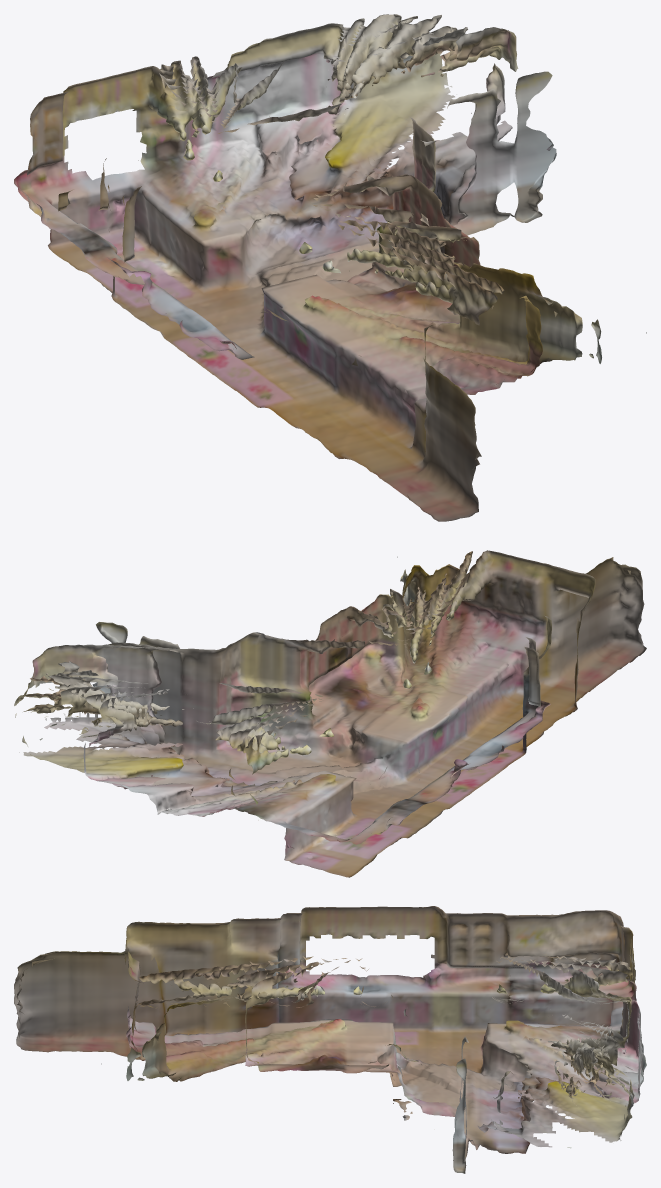
File: berry-dream-kitchen-1-0_collider.glb
3 renders of one model, top to bottom at view 1: azimuth 30°, elevation 25°; view 2: azimuth 150°, elevation 25°; view 3: azimuth 270°, elevation 25°, orthographic. The views are drawn at different scales.
Visible parts, largest first — view 1: world; view 2: world; view 3: world.
Boxes of the visible parts, x1,y1,x2,y2 form: world: (14, 14, 646, 521); world: (14, 550, 646, 877); world: (14, 906, 646, 1173).
Bounding box in the file's own units: 9.05 × 2.97 × 13.68.
